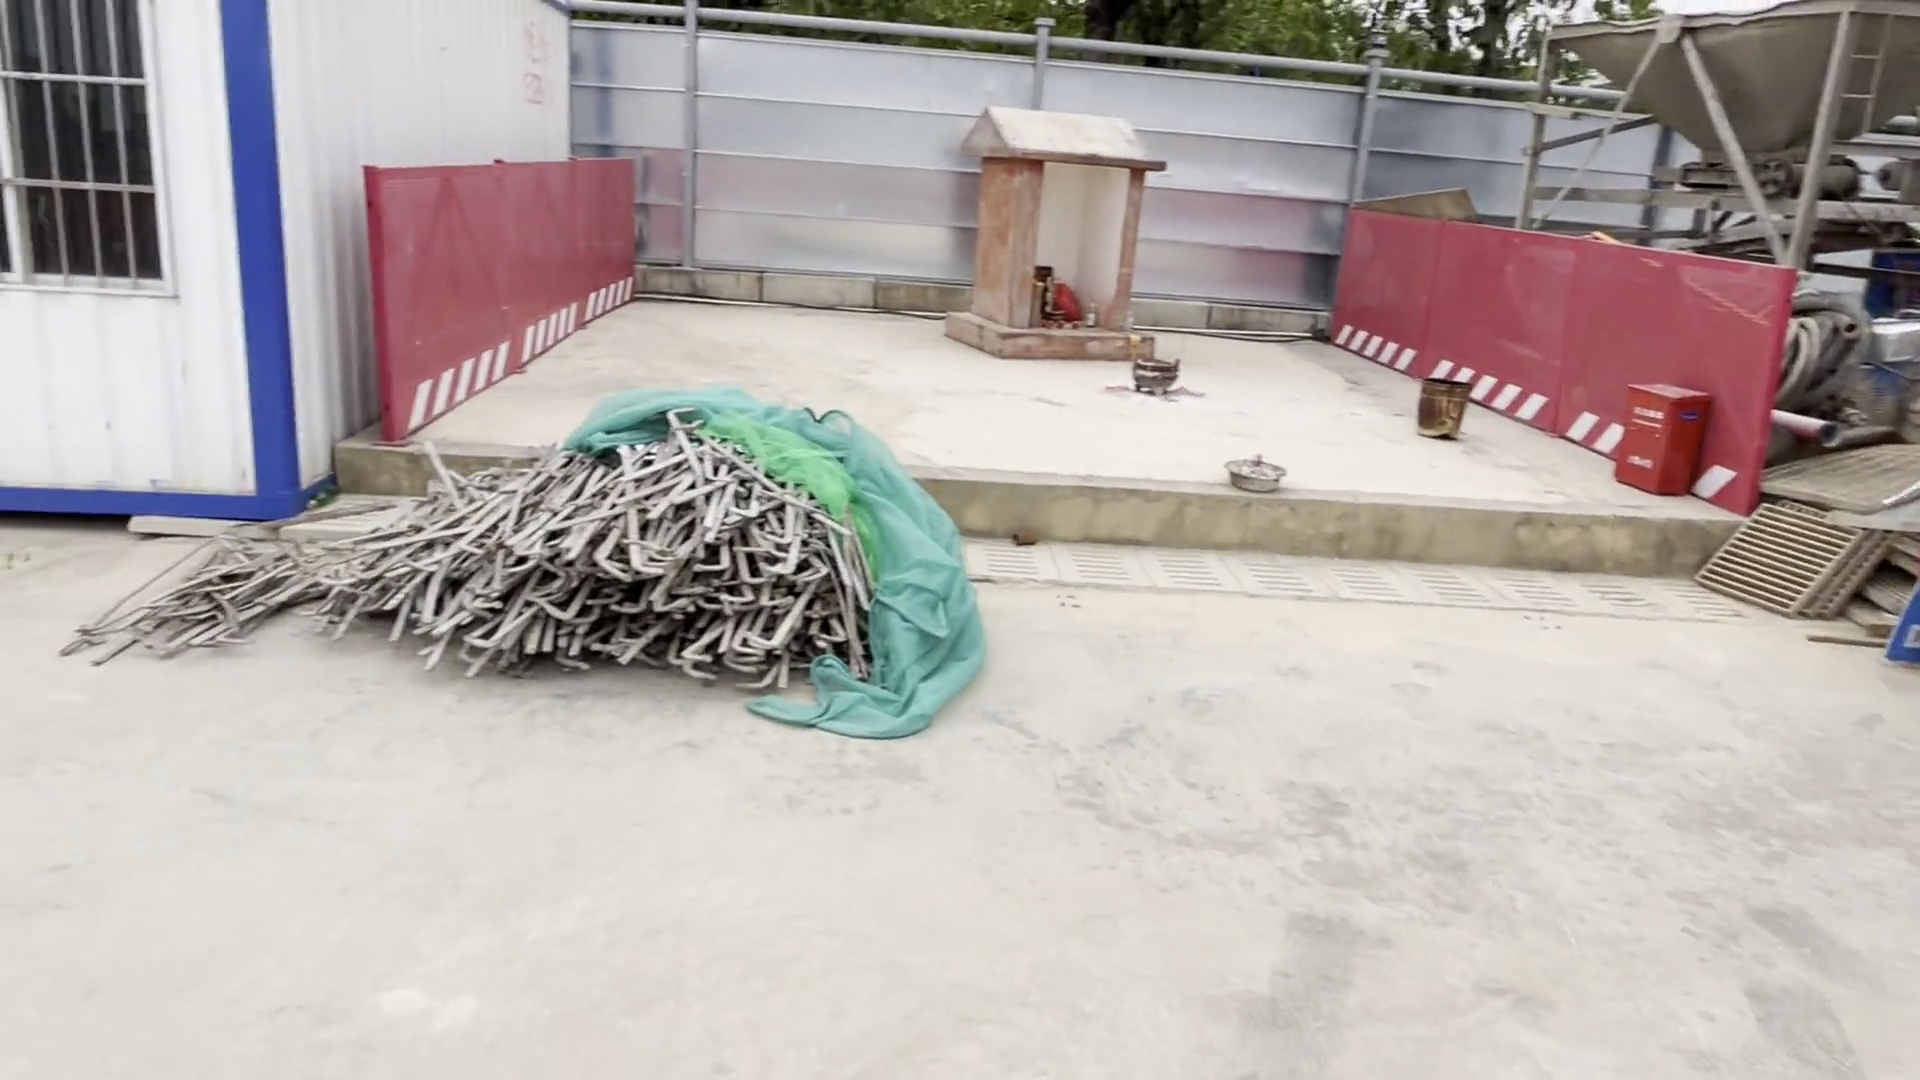fence: (1319, 203, 1793, 520), (345, 144, 655, 440)
